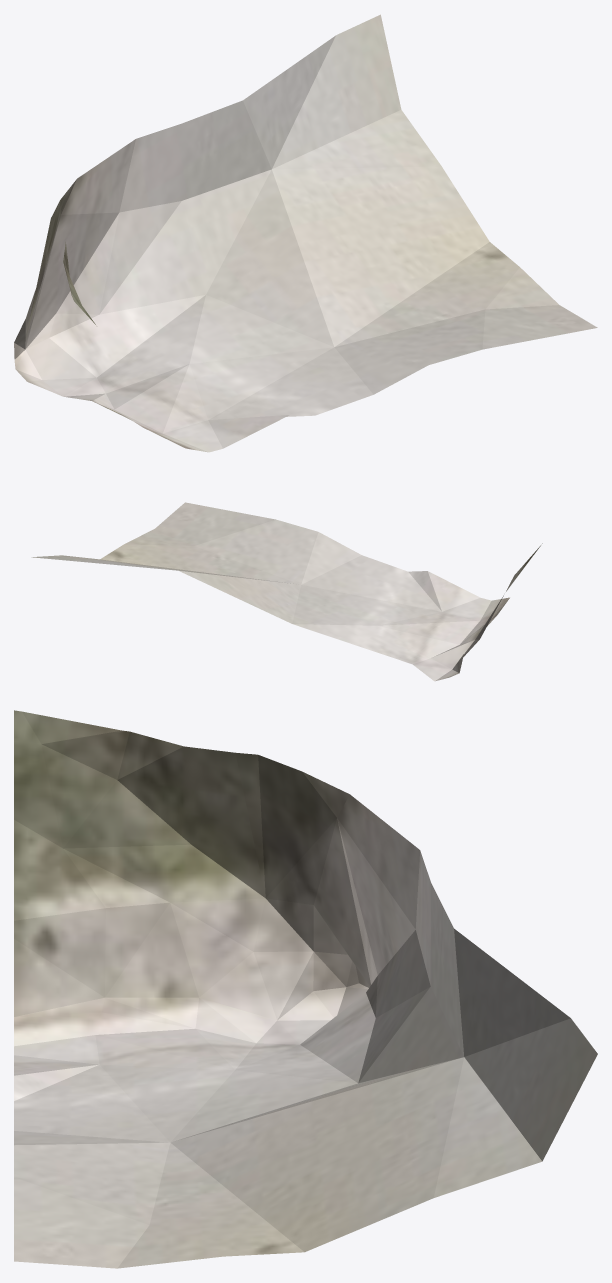
3 renders of one model, top to bottom at view 1: azimuth 30°, elevation 25°; view 2: azimuth 150°, elevation 25°; view 3: azimuth 270°, elevation 25°, orthographic. The views are drawn at different scales.
Size of the model in its own units: 2.3 by 0.7895 by 1.65.
1 material, 1 textured.
